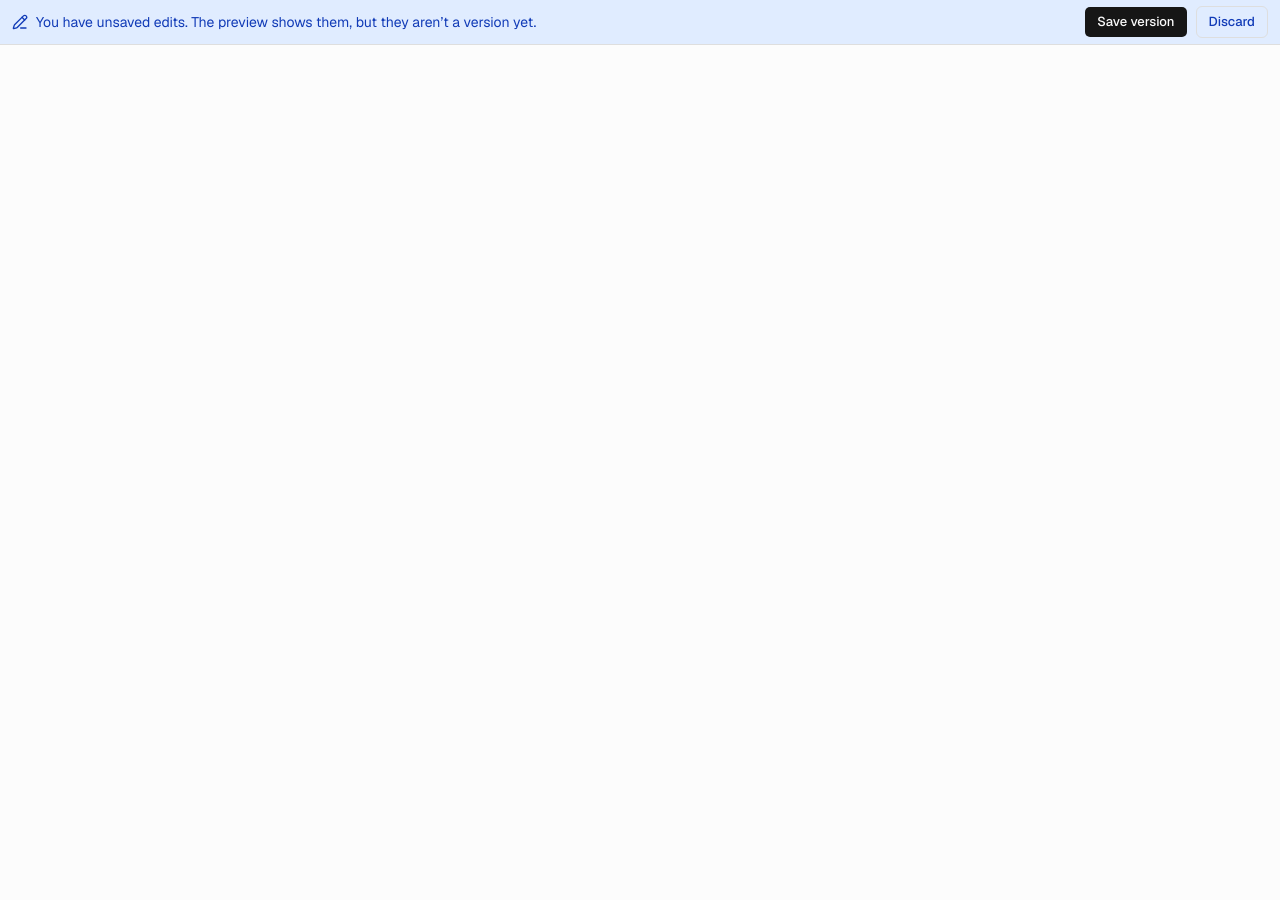
Test: UnsavedEditsBar › asks before discarding, and discards only when confirmed
Later steps or results of the test are not shown.
Click the button "Discard" at (1232,22), box [1196,6,1268,38]
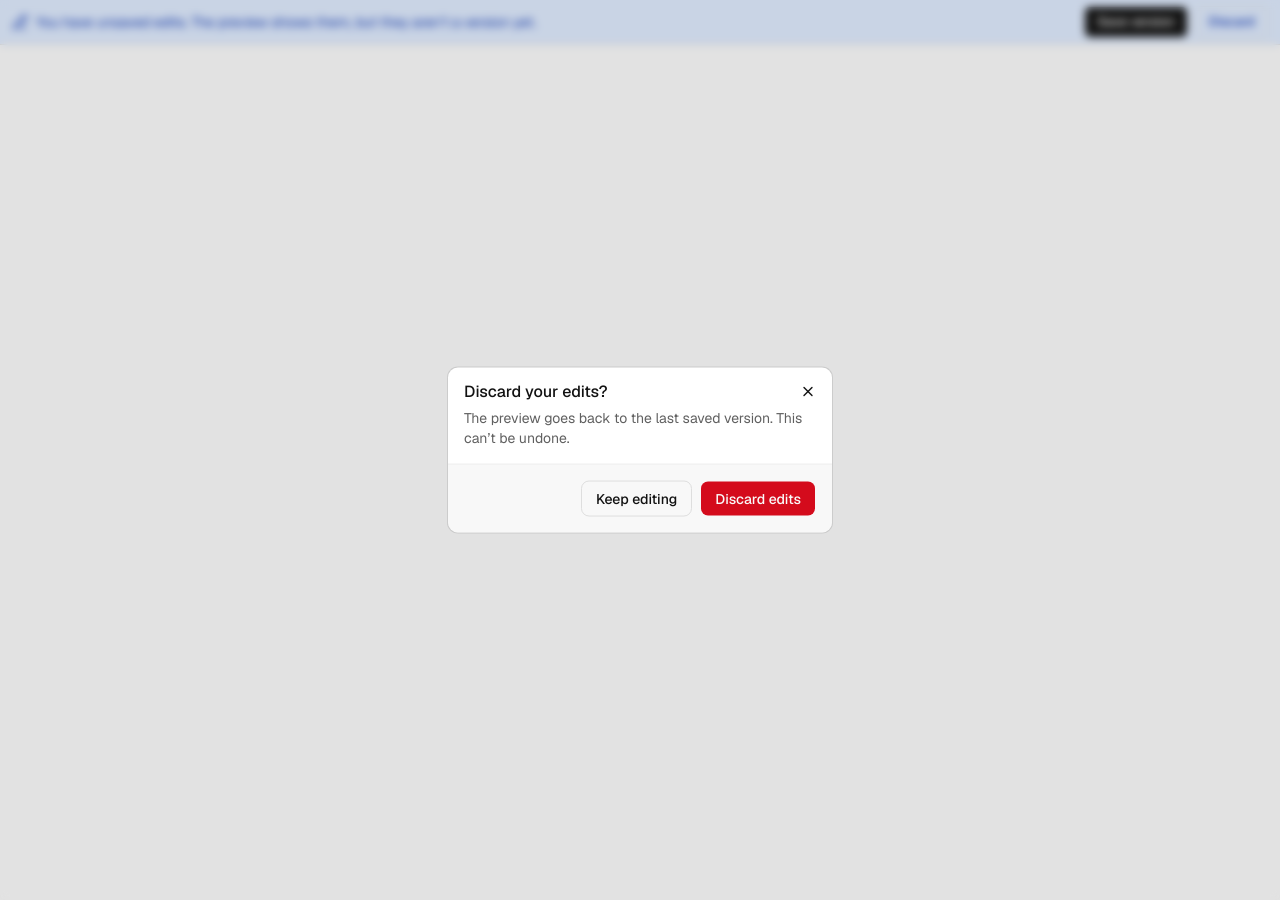
Expected: the dialog "Discard your edits?" is shown, [448,368,832,532]
